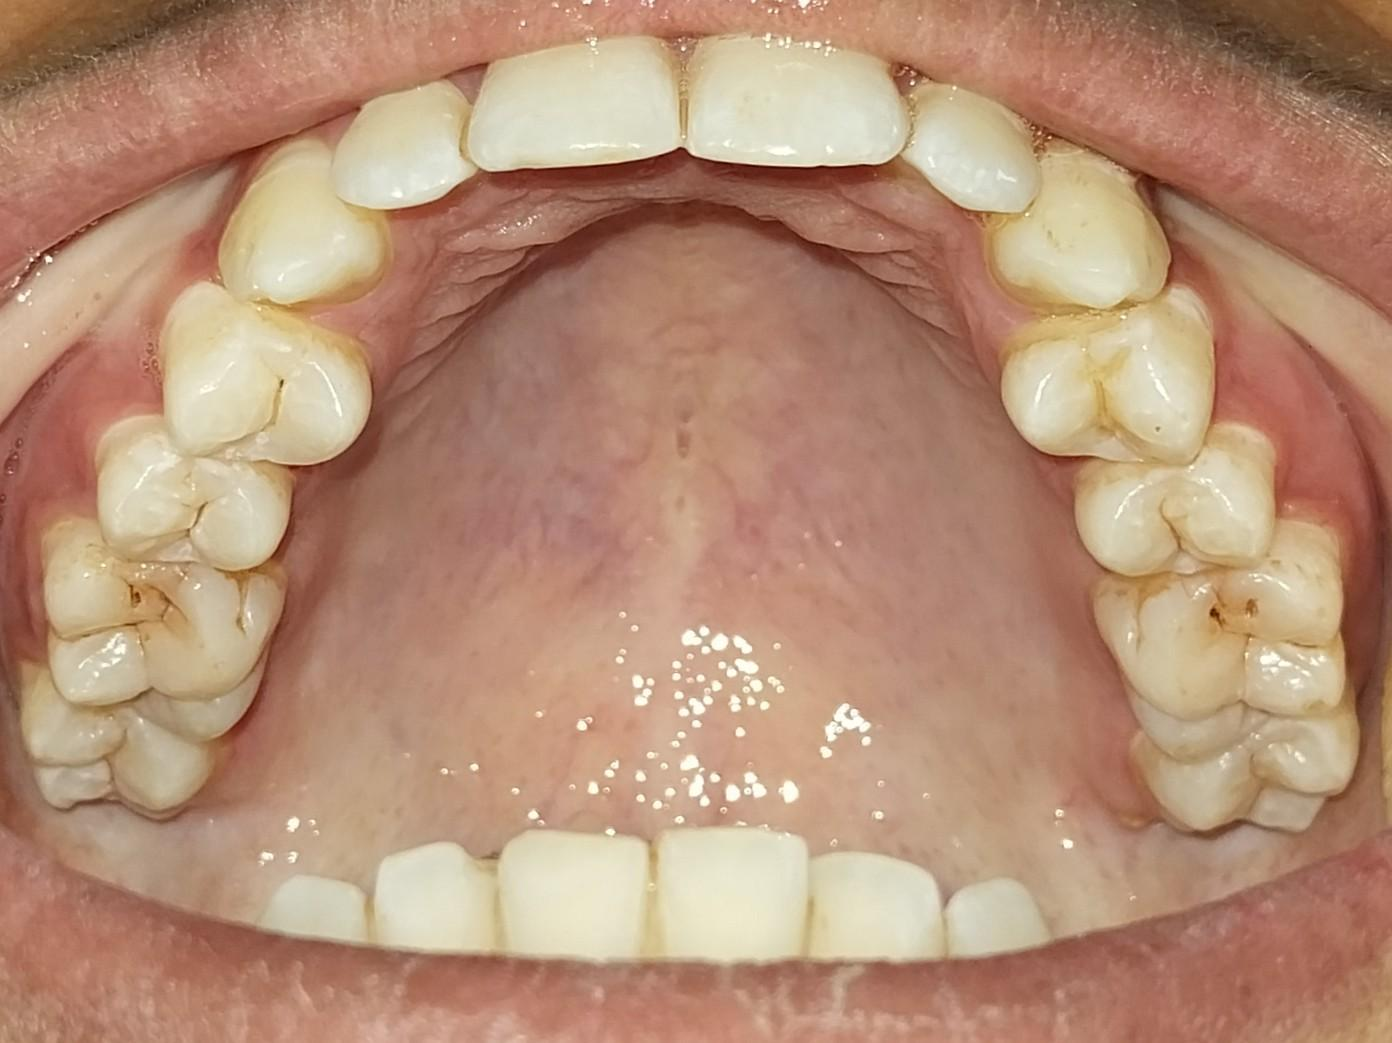D: (1087, 519, 1347, 760), (39, 520, 283, 743), (159, 280, 371, 470), (1071, 433, 1282, 589), (96, 413, 291, 573)
